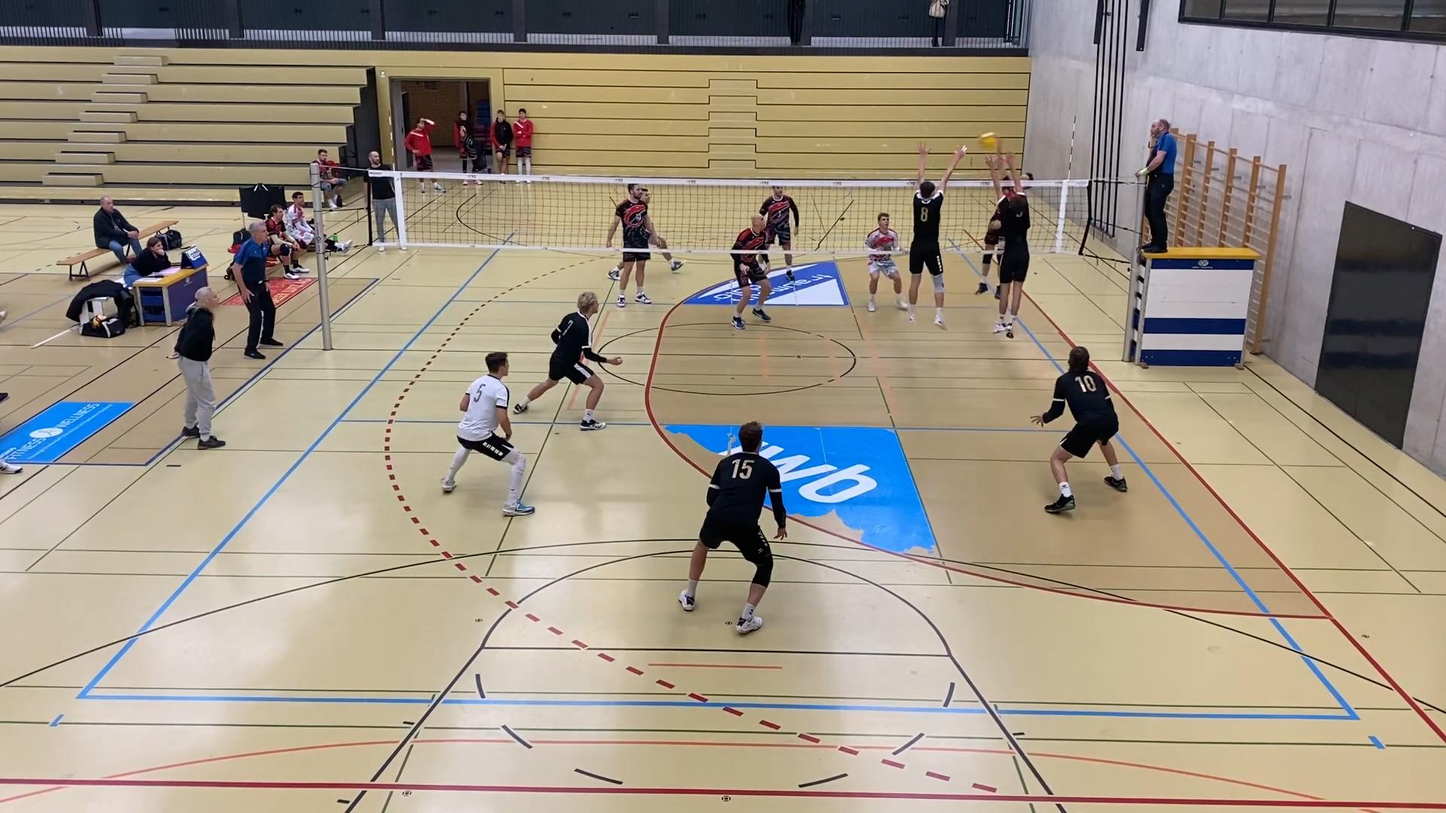attacco: (982, 135, 1031, 293)
muro: (903, 146, 969, 332), (978, 146, 1037, 339)
